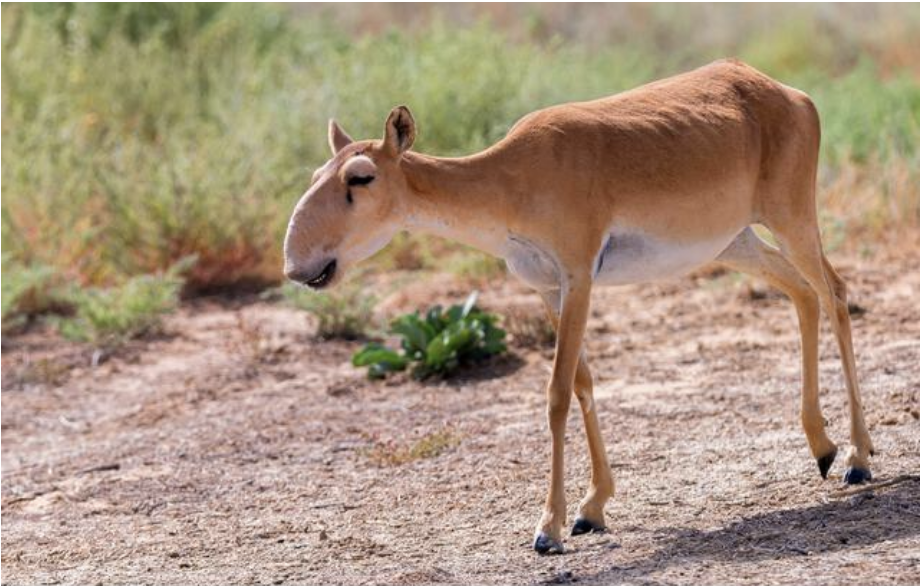saiga: (267, 53, 891, 539)
